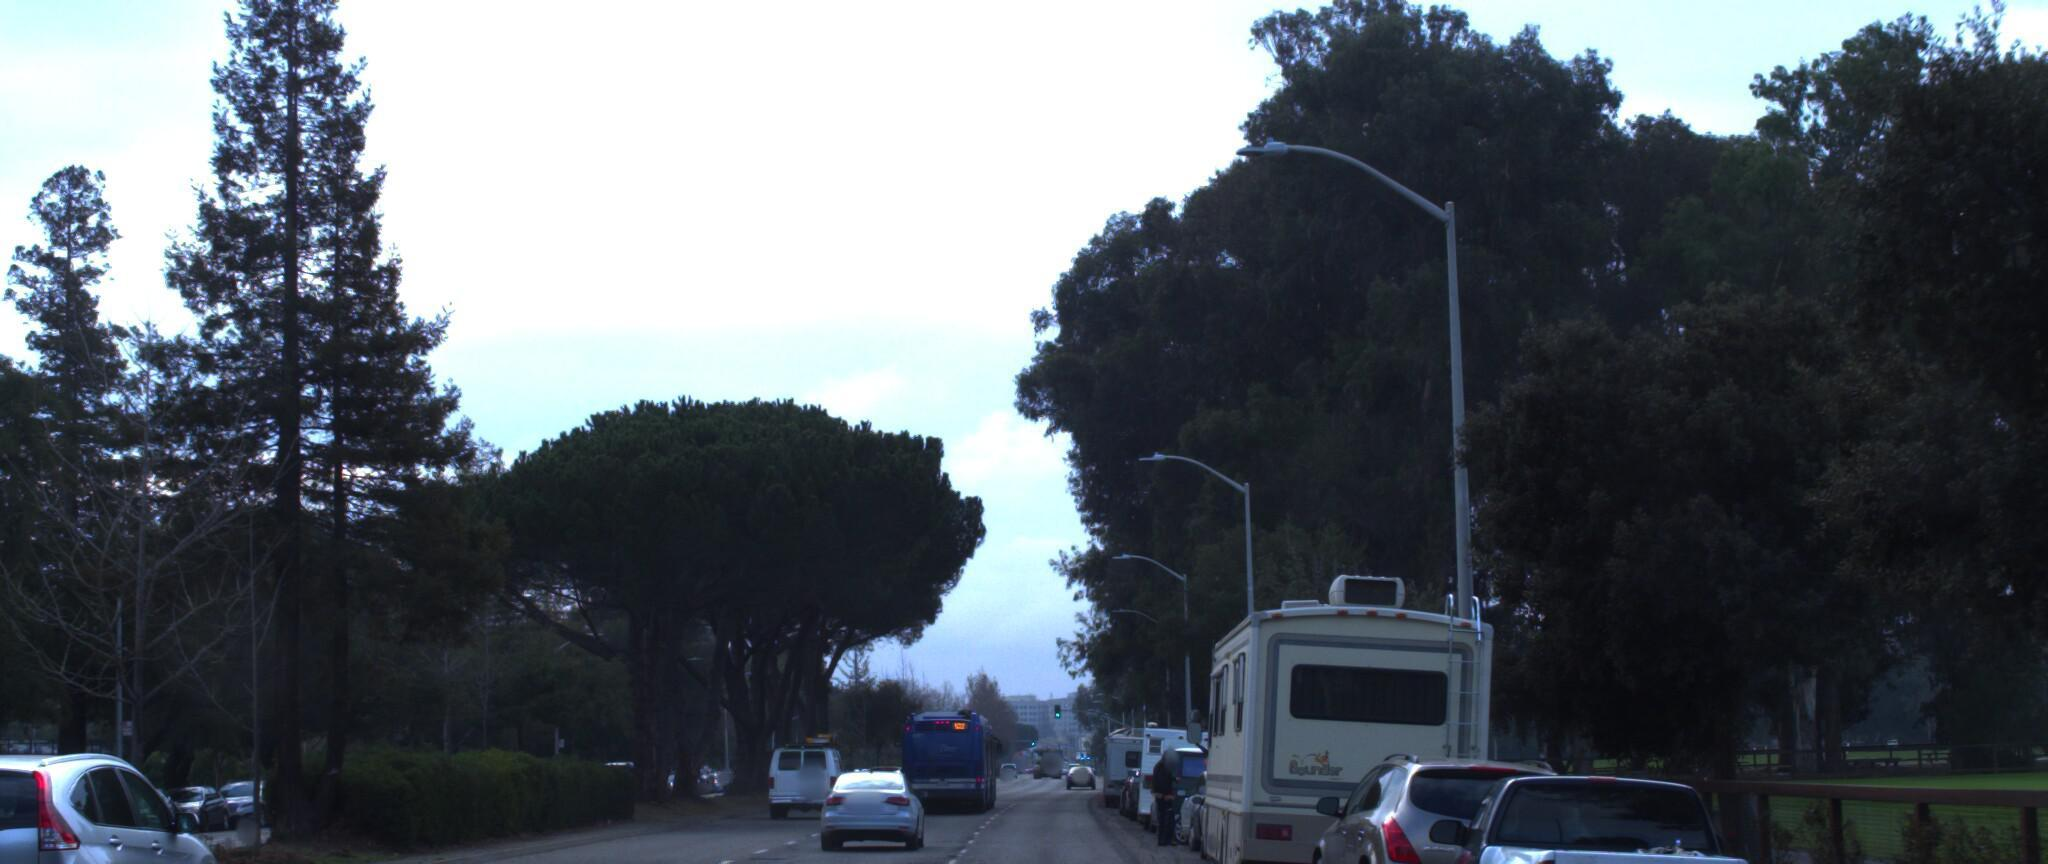car: (1405, 740, 1799, 864), (1287, 724, 1610, 864), (0, 737, 231, 864), (799, 747, 922, 829)
other_vehicle: (1185, 547, 1509, 864), (1122, 697, 1247, 813)
